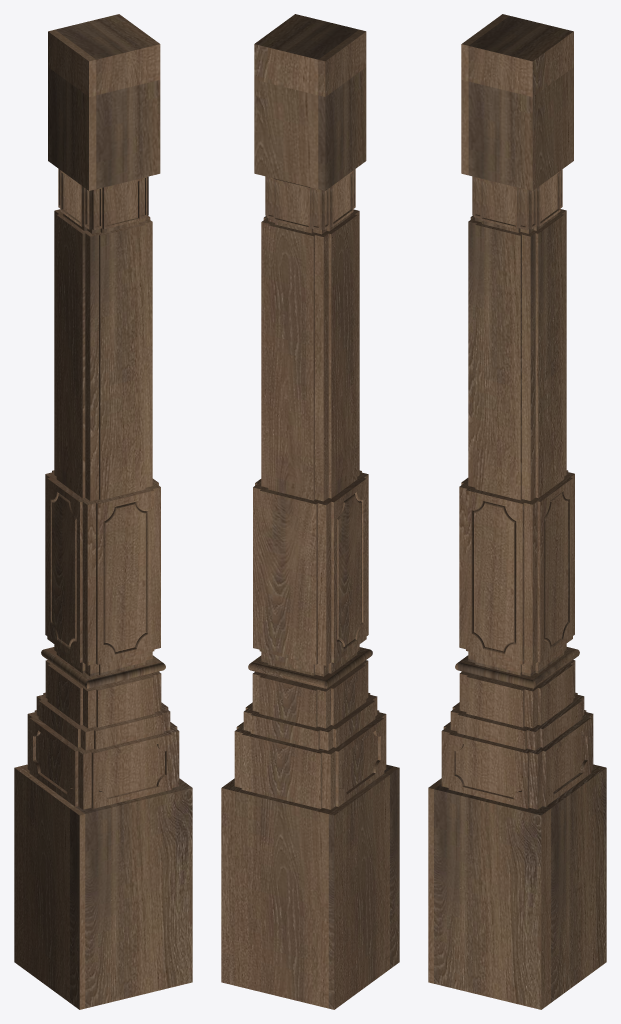
File: Pillar.glb
The picture shows the model from 3 angles, left to right: view 1: azimuth 30°, elevation 25°; view 2: azimuth 150°, elevation 25°; view 3: azimuth 330°, elevation 25°; orthographic projection.
Visible parts, largest first — view 1: group_21, group_19, group_14, group_11, group_15, group_17, group_12, group_18, group_3, group_16; view 2: group_21, group_19, group_14, group_11, group_15, group_17, group_8, group_18, group_3, group_7; view 3: group_21, group_19, group_14, group_11, group_15, group_17, group_12, group_18, group_9, group_13.
Part boxes in pixels (bbox=[...]): group_21: bbox=[14, 764, 192, 1009]; group_19: bbox=[54, 209, 152, 676]; group_14: bbox=[45, 470, 160, 665]; group_11: bbox=[48, 14, 160, 190]; group_15: bbox=[27, 710, 179, 809]; group_17: bbox=[36, 660, 170, 750]; group_12: bbox=[102, 178, 140, 229]; group_18: bbox=[41, 647, 165, 688]; group_3: bbox=[60, 170, 84, 226]; group_16: bbox=[92, 188, 102, 230]; group_21: bbox=[221, 764, 399, 1009]; group_19: bbox=[261, 209, 359, 676]; group_14: bbox=[253, 470, 368, 665]; group_11: bbox=[254, 14, 366, 190]; group_15: bbox=[234, 710, 386, 809]; group_17: bbox=[243, 660, 377, 750]; group_8: bbox=[273, 178, 311, 229]; group_18: bbox=[248, 647, 372, 688]; group_3: bbox=[329, 170, 353, 227]; group_7: bbox=[311, 188, 321, 230]; group_21: bbox=[428, 764, 606, 1009]; group_19: bbox=[468, 209, 566, 676]; group_14: bbox=[459, 470, 574, 665]; group_11: bbox=[461, 14, 573, 190]; group_15: bbox=[441, 710, 593, 809]; group_17: bbox=[450, 660, 584, 750]; group_12: bbox=[480, 178, 518, 229]; group_18: bbox=[455, 647, 579, 688]; group_9: bbox=[536, 171, 560, 226]; group_13: bbox=[518, 188, 528, 229].
Bounding box in the file's own units: 12.19 × 96.33 × 12.19.
Materials: 1 (1 with a texture image).
